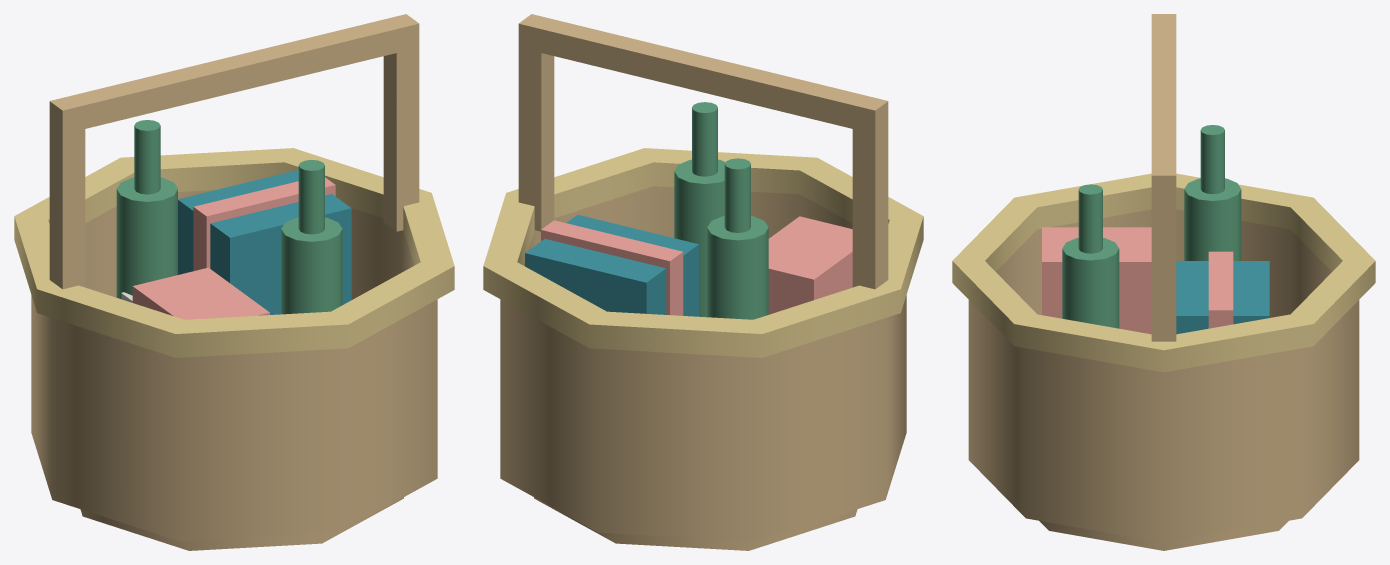
Rendered from bb_set_hohbasket.fbx.
3 renders of one model, left to right at view 1: azimuth 30°, elevation 25°; view 2: azimuth 150°, elevation 25°; view 3: azimuth 270°, elevation 25°, orthographic. The views are drawn at different scales.
Parts seen in each view (by area): view 1: bb_set_hohbasket; view 2: bb_set_hohbasket; view 3: bb_set_hohbasket.
Part boxes in pixels (bbox=[...]): bb_set_hohbasket: bbox=[14, 14, 454, 550]; bb_set_hohbasket: bbox=[483, 14, 923, 550]; bb_set_hohbasket: bbox=[952, 14, 1375, 550].
Bounding box in the file's own units: 0.52 × 0.525 × 0.52.
